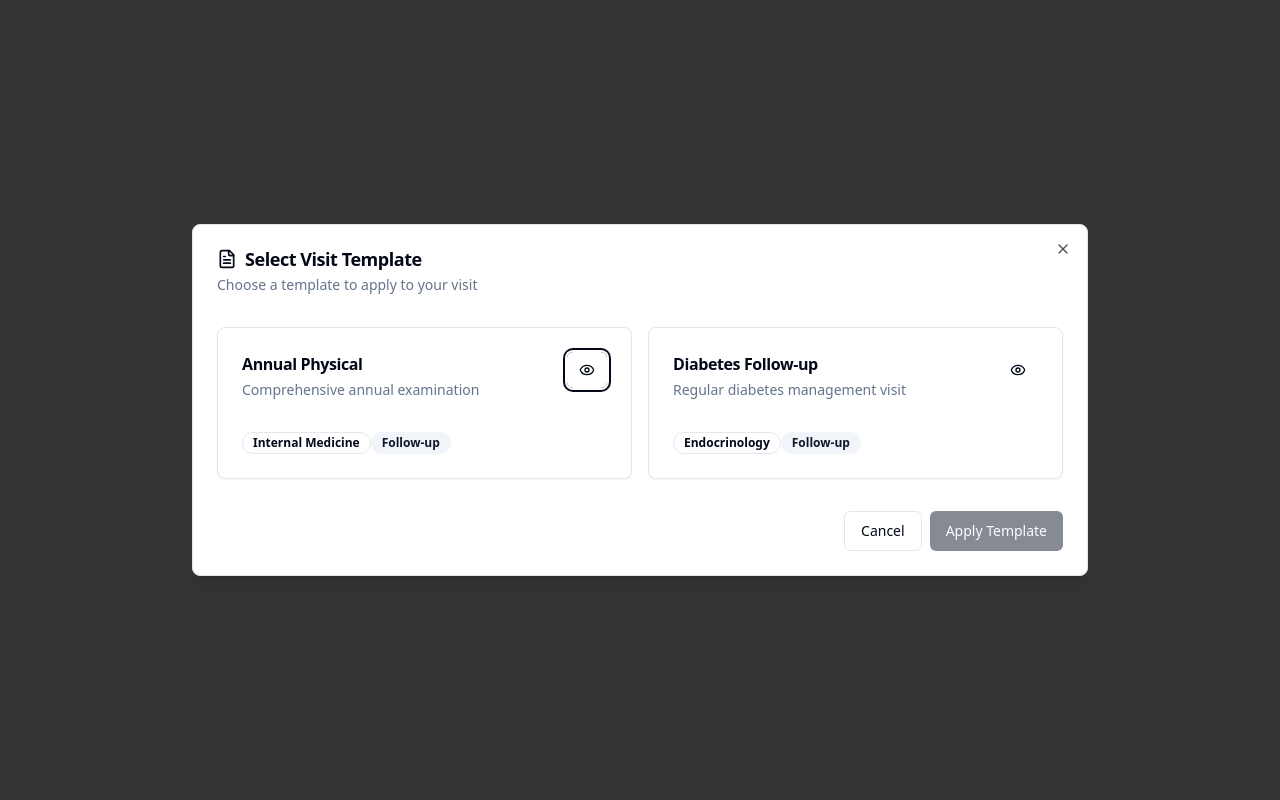
Test: VisitTemplateSelector › Template Preview › opens preview when preview button is clicked
Click the button without text next to "Comprehensive annual examination": (587, 370) x1=567 y1=352 x2=607 y2=388
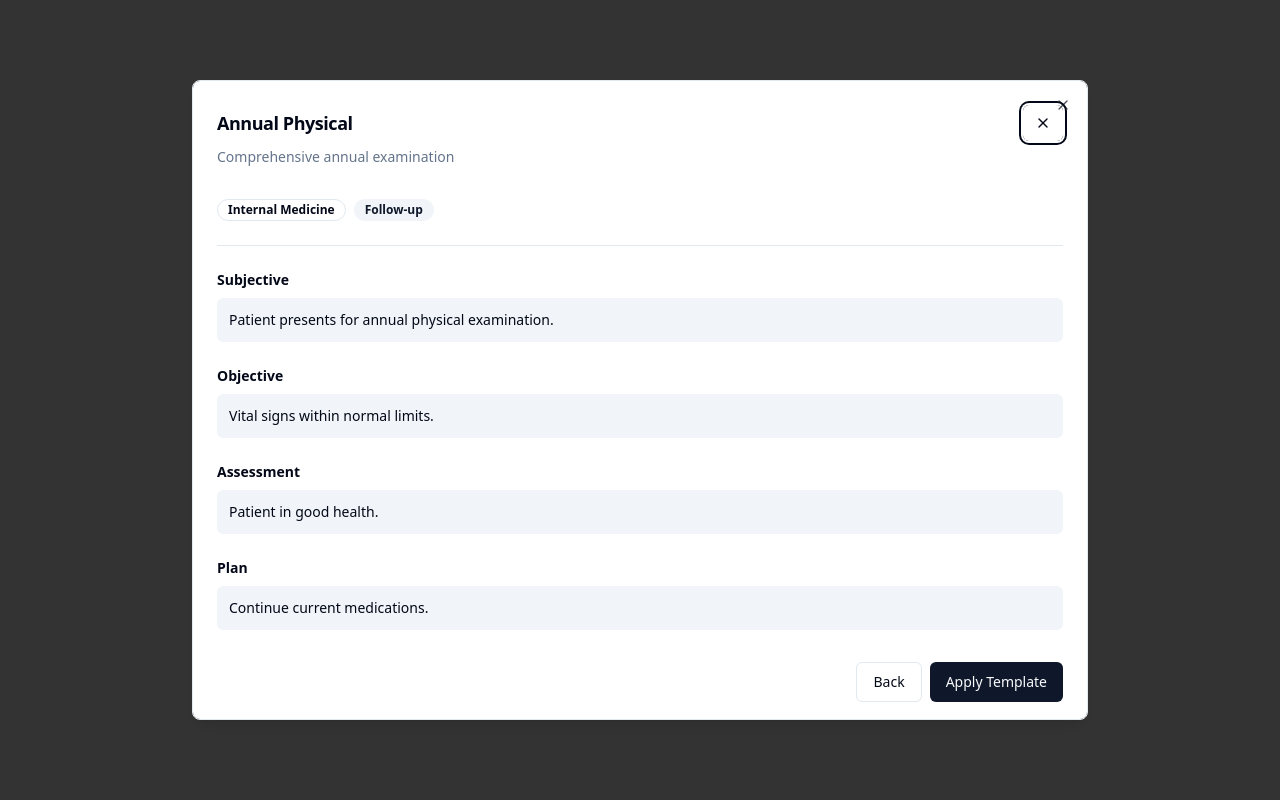
Now the heading "Subjective" is shown, box x1=217 y1=270 x2=289 y2=289
